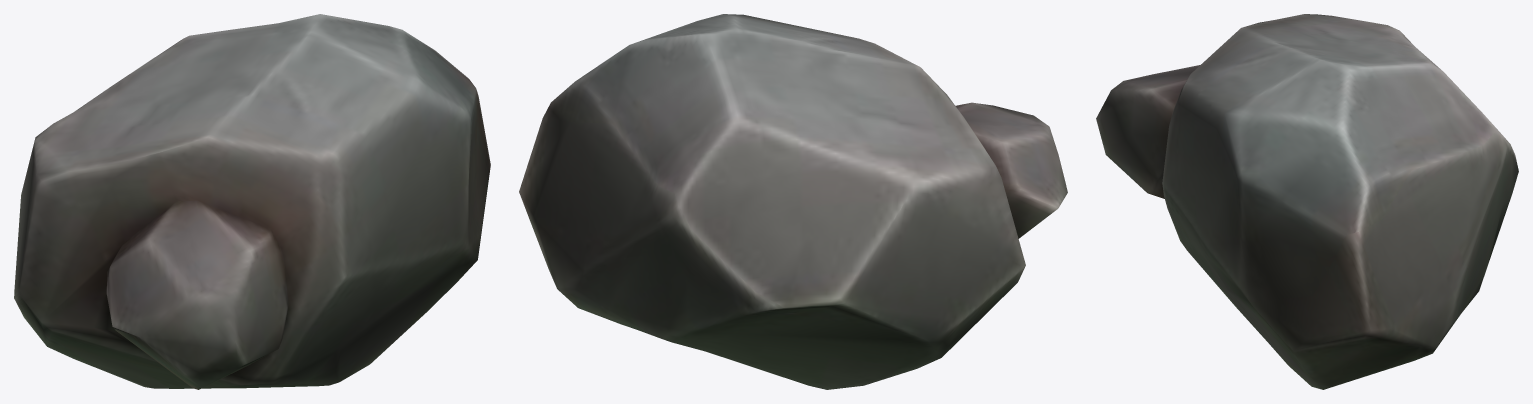
The model's file is Small_1_SMall_0.glb.
3 views of the same model, side by side, from view 1: azimuth 30°, elevation 25°; view 2: azimuth 150°, elevation 25°; view 3: azimuth 270°, elevation 25° (orthographic). The views are drawn at different scales.
Visible parts, largest first — view 1: Small_1_SMall_0; view 2: Small_1_SMall_0; view 3: Small_1_SMall_0.
Boxes of the visible parts, x1,y1,x2,y2 form: Small_1_SMall_0: (14, 14, 490, 389); Small_1_SMall_0: (519, 14, 1067, 389); Small_1_SMall_0: (1096, 14, 1518, 389).
Size of the model in its own units: 1.8 by 1.18 by 1.47.
Materials: 1 (1 with a texture image).
